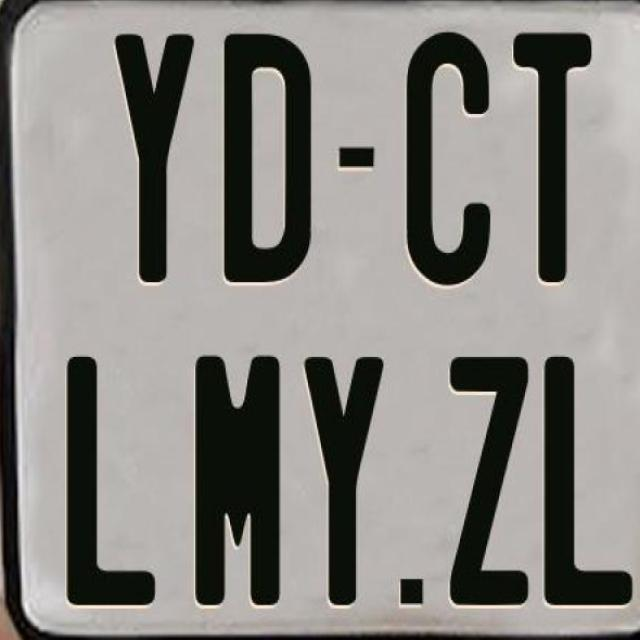license-plate: (12, 2, 625, 640)
